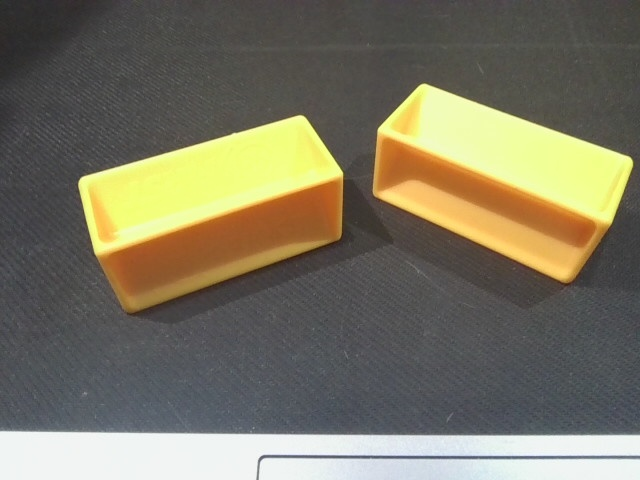YellowSample: (370, 77, 636, 287), (72, 113, 348, 315)
